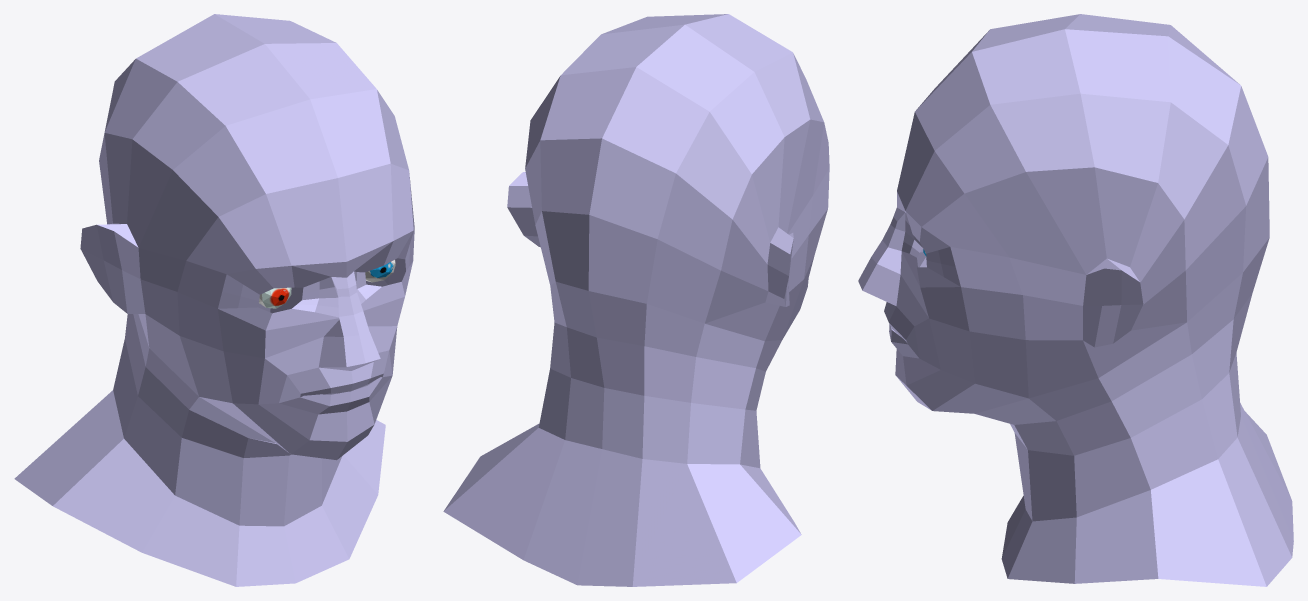
File: Aldo_model.obj
3 renders of one model, left to right at view 1: azimuth 30°, elevation 25°; view 2: azimuth 150°, elevation 25°; view 3: azimuth 270°, elevation 25°, orthographic. The views are drawn at different scales.
Parts seen in each view (by area): view 1: Face, LEye; view 2: Face; view 3: Face.
Boxes of the visible parts, x1,y1,x2,y2 form: Face: (14, 14, 414, 586); LEye: (259, 287, 291, 308); Face: (443, 14, 829, 586); Face: (858, 14, 1293, 586).
Bounding box in the file's own units: 2.02 × 2.99 × 2.23.
3 materials, 3 textured.
